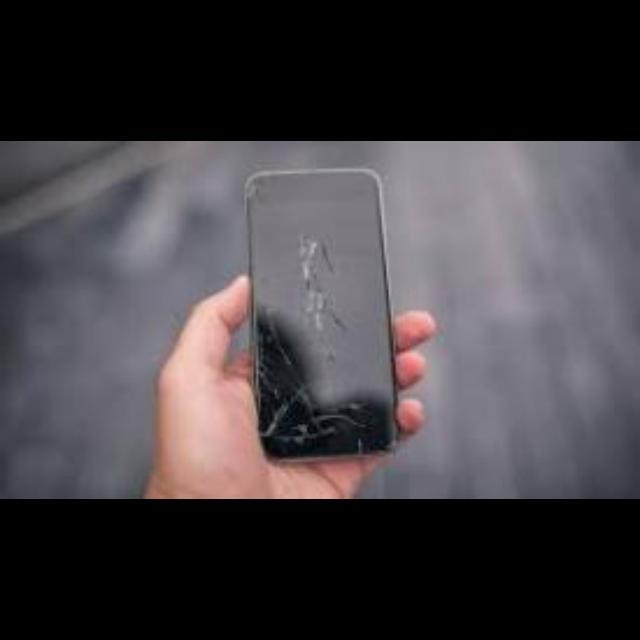Phone: (246, 163, 399, 463)
